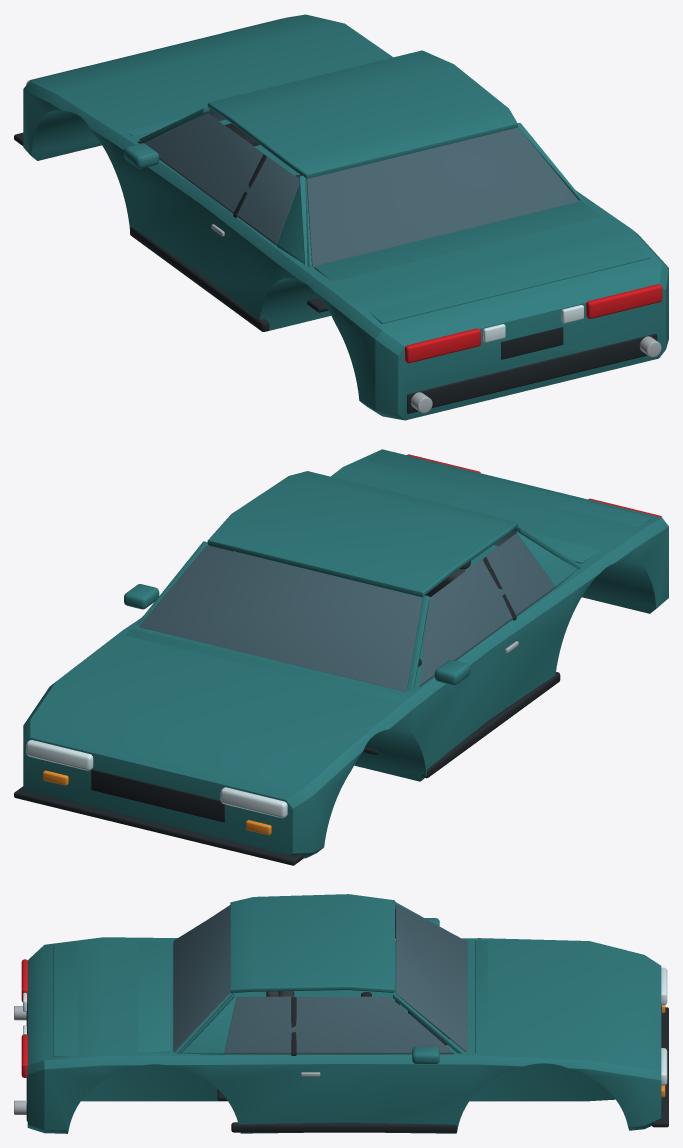
The model's file is Cedar_Coupe_Body.fbx.
The picture shows the model from 3 angles, top to bottom: view 1: azimuth 30°, elevation 25°; view 2: azimuth 150°, elevation 25°; view 3: azimuth 270°, elevation 25°; orthographic projection. The views are drawn at different scales.
Parts seen in each view (by area): view 1: BodyShell, RoofPanel, RearGlass, TrunkPanel, SideGlass_L, RearValance, Sill_L, BrakeLight_R, BrakeLight_L, RearQuarter_L, RearPlateRecess, Mirror_L (+1 smaller); view 2: BodyShell, Windshield, RoofPanel, SideGlass_L, TrunkPanel, FrontSplitter, FrontGrille, HoodPanel, Sill_L, Headlight_L, Headlight_R, RearQuarter_L (+3 smaller); view 3: BodyShell, RoofPanel, SideGlass_R, Windshield, TrunkPanel, RearGlass, Sill_R, RearQuarter_R, HoodPanel, FrontSplitter, APillar_R, Mirror_R (+1 smaller).
Boxes of the visible parts, bbox=[...] form: BodyShell: bbox=[23, 14, 668, 420]; RoofPanel: bbox=[207, 50, 517, 178]; RearGlass: bbox=[306, 127, 579, 266]; TrunkPanel: bbox=[314, 201, 650, 323]; SideGlass_L: bbox=[145, 113, 299, 245]; RearValance: bbox=[407, 333, 657, 413]; Sill_L: bbox=[130, 227, 269, 331]; BrakeLight_R: bbox=[586, 284, 662, 318]; BrakeLight_L: bbox=[405, 328, 480, 363]; RearQuarter_L: bbox=[277, 179, 309, 266]; RearPlateRecess: bbox=[501, 327, 563, 359]; Mirror_L: bbox=[124, 143, 159, 168]; BodyShell: bbox=[23, 449, 668, 858]; Windshield: bbox=[139, 545, 422, 691]; RoofPanel: bbox=[207, 471, 517, 597]; SideGlass_L: bbox=[419, 533, 555, 686]; TrunkPanel: bbox=[369, 452, 650, 563]; FrontSplitter: bbox=[14, 786, 303, 865]; FrontGrille: bbox=[91, 769, 224, 822]; HoodPanel: bbox=[126, 629, 402, 700]; Sill_L: bbox=[422, 672, 560, 778]; Headlight_L: bbox=[220, 787, 287, 818]; Headlight_R: bbox=[26, 740, 93, 770]; RearQuarter_L: bbox=[517, 531, 581, 588]; BodyShell: bbox=[27, 937, 661, 1133]; RoofPanel: bbox=[230, 894, 395, 993]; SideGlass_R: bbox=[224, 996, 453, 1054]; Windshield: bbox=[396, 904, 467, 1052]; TrunkPanel: bbox=[53, 940, 170, 1057]; RearGlass: bbox=[173, 906, 230, 1052]; Sill_R: bbox=[231, 1122, 457, 1132]; RearQuarter_R: bbox=[174, 993, 236, 1054]; HoodPanel: bbox=[475, 940, 487, 1052]; FrontSplitter: bbox=[652, 1007, 668, 1127]; APillar_R: bbox=[393, 992, 463, 1053]; Mirror_R: bbox=[412, 1046, 439, 1063].
Bounding box in the file's own units: 7.72 × 3.54 × 15.5.
